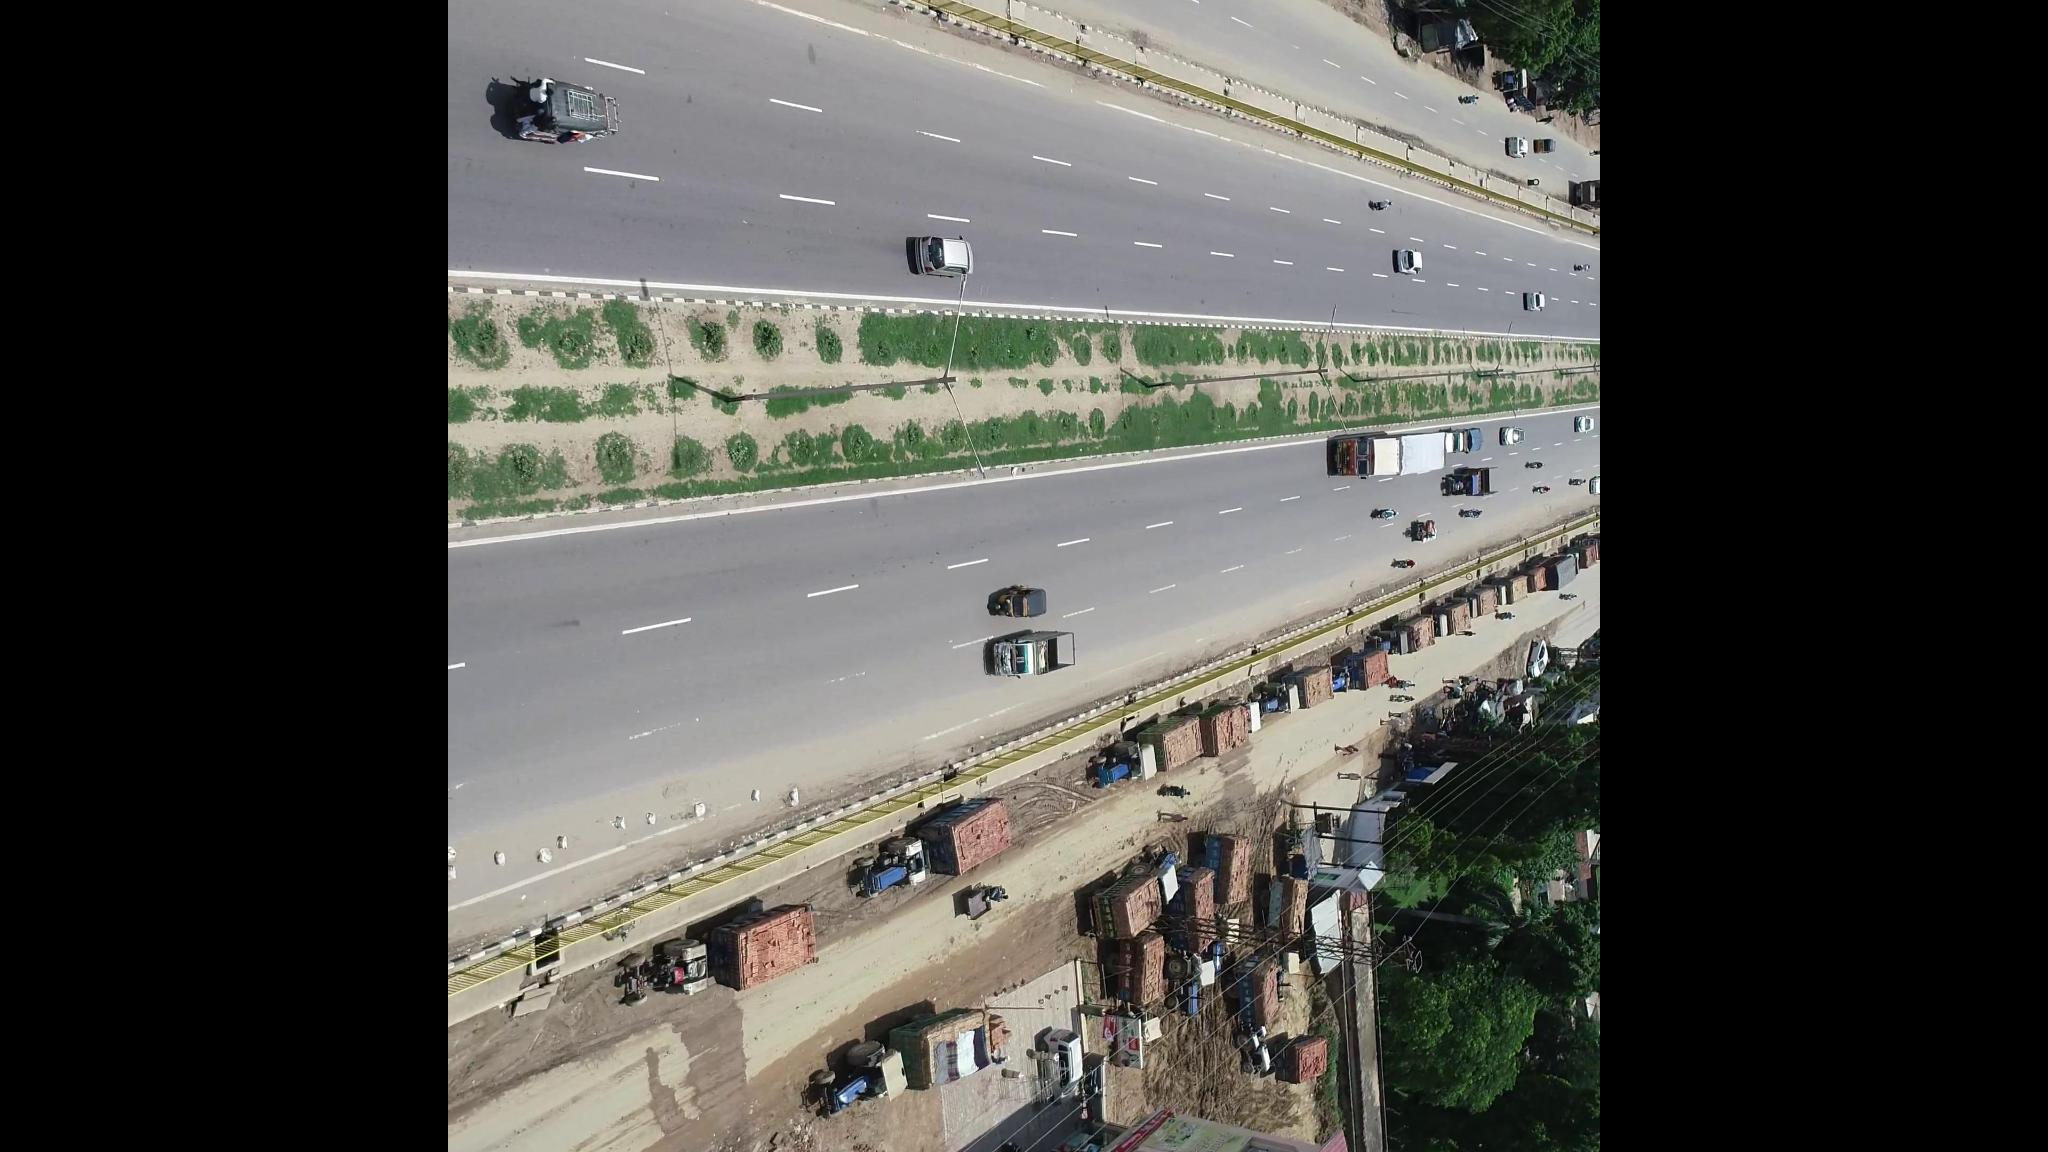Muddy_road: (454, 973, 608, 1096), (1018, 769, 1089, 828)
